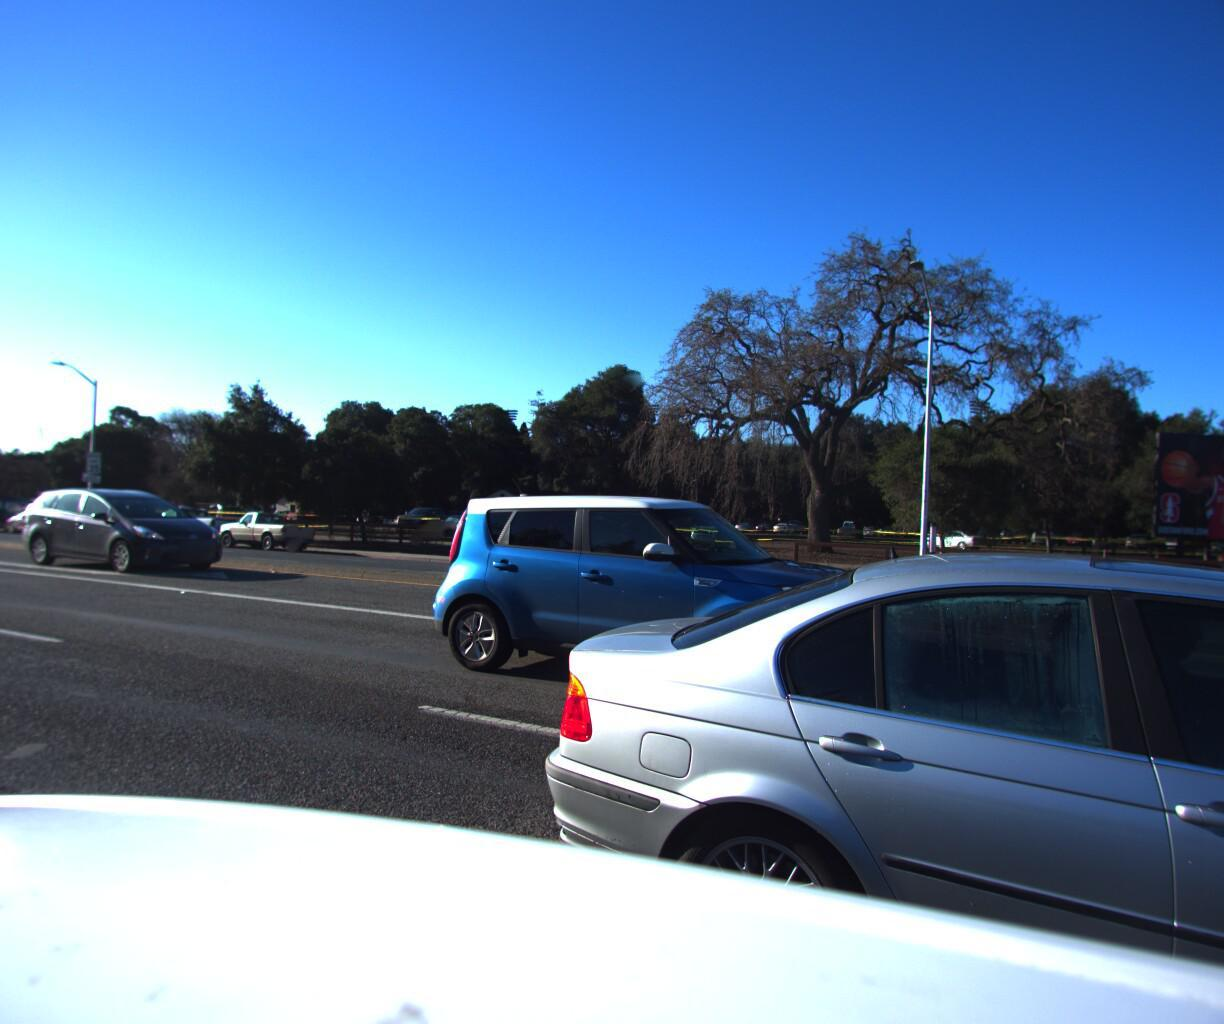car: (490, 535, 1224, 1024), (424, 489, 944, 739), (18, 479, 237, 574), (1195, 482, 1224, 776), (134, 499, 250, 542), (212, 504, 320, 547), (2, 501, 83, 531), (0, 487, 24, 527)
